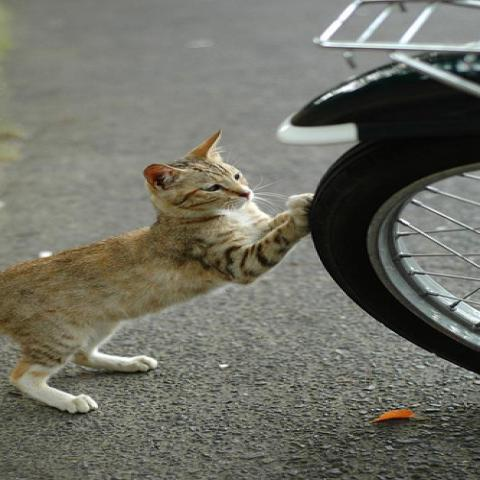motorcycle: (274, 2, 476, 374)
